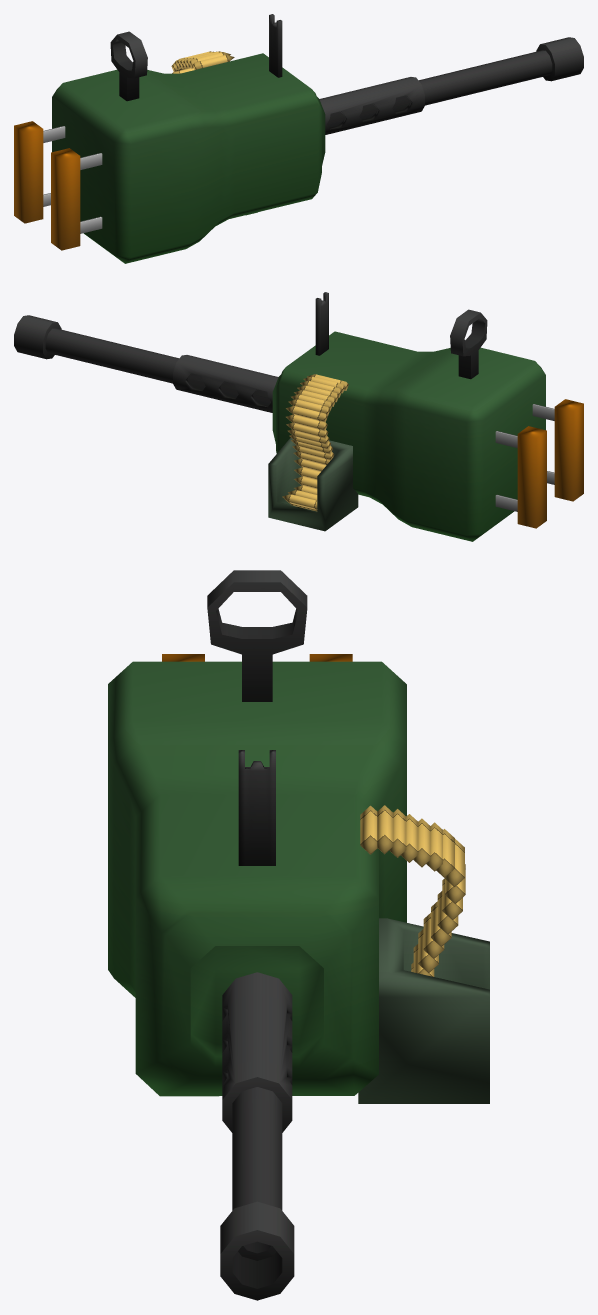
Rendered from MountedGun.obj.
The picture shows the model from 3 angles, top to bottom: view 1: azimuth 30°, elevation 25°; view 2: azimuth 150°, elevation 25°; view 3: azimuth 270°, elevation 25°; orthographic projection. The views are drawn at different scales.
Parts seen in each view (by area): view 1: Handle1; view 2: Handle1; view 3: Handle1.
Part boxes in pixels (bbox=[...]): Handle1: bbox=[14, 14, 583, 263]; Handle1: bbox=[14, 292, 583, 541]; Handle1: bbox=[108, 570, 489, 1300].
Bounding box in the file's own units: 3.71 × 1.29 × 1.14.
Materials: 1 (1 with a texture image).
